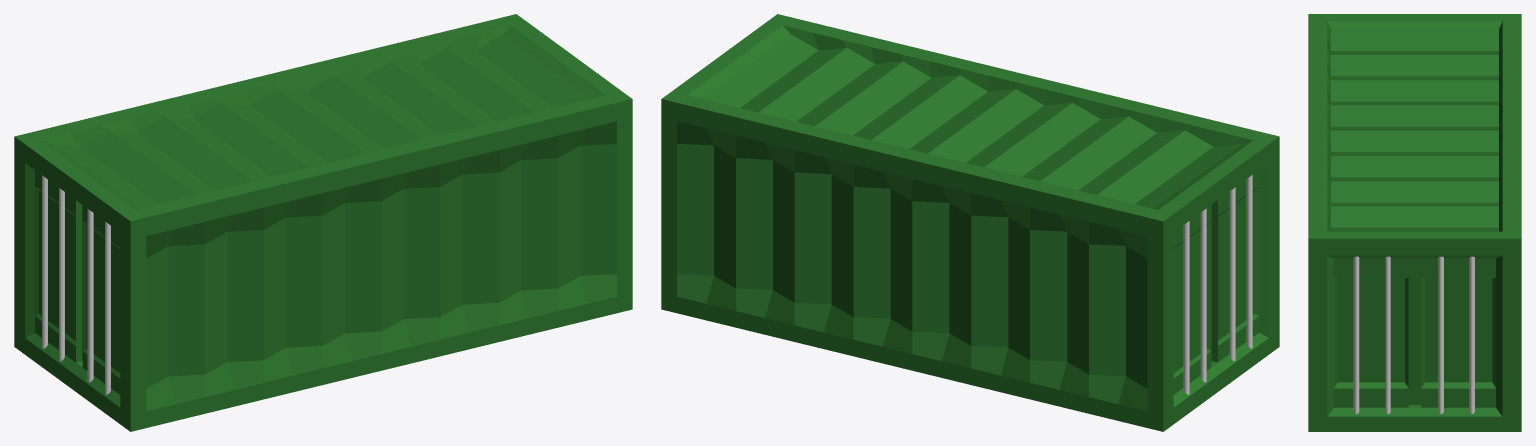
File: green_container.fbx
3 renders of one model, left to right at view 1: azimuth 30°, elevation 25°; view 2: azimuth 150°, elevation 25°; view 3: azimuth 270°, elevation 25°, orthographic. The views are drawn at different scales.
Parts seen in each view (by area): view 1: Cube, Cylinder.002, Cylinder, Cylinder.003, Cylinder.001; view 2: Cube, Cylinder.002, Cylinder, Cylinder.001, Cylinder.003; view 3: Cube, Cylinder.004, Cylinder.005, Cylinder.006, Cylinder.007.
Part boxes in pixels (<box>): Cube: <box>14,14,632,431</box>; Cylinder.002: <box>87,209,93,382</box>; Cylinder: <box>59,188,64,361</box>; Cylinder.003: <box>105,221,110,395</box>; Cylinder.001: <box>42,175,47,348</box>; Cube: <box>661,14,1279,431</box>; Cylinder.002: <box>1229,187,1235,360</box>; Cylinder: <box>1200,208,1206,382</box>; Cylinder.001: <box>1183,221,1189,394</box>; Cylinder.003: <box>1246,175,1252,348</box>; Cube: <box>1308,14,1521,431</box>; Cylinder.004: <box>1353,256,1359,413</box>; Cylinder.005: <box>1385,256,1390,413</box>; Cylinder.006: <box>1469,256,1474,413</box>; Cylinder.007: <box>1438,256,1443,413</box>.
Bounding box in the file's own units: 4.99 × 2 × 2.
